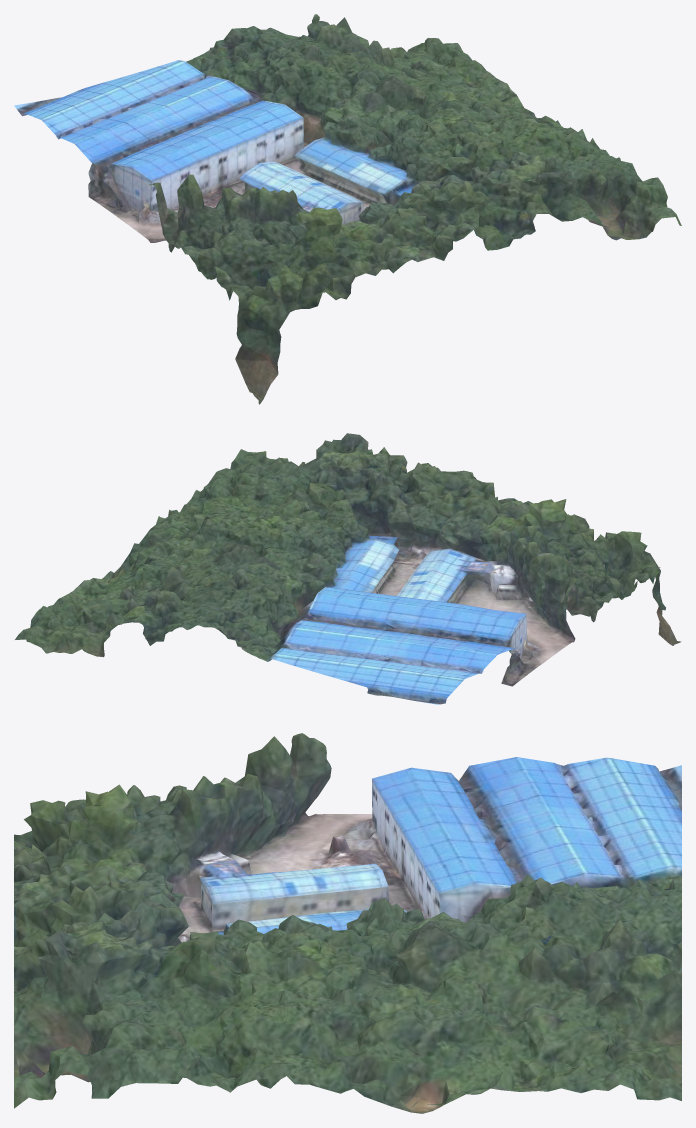
The model's file is Tile__005__002_L19_00010t3.glb.
3 views of the same model, one above another, from view 1: azimuth 30°, elevation 25°; view 2: azimuth 150°, elevation 25°; view 3: azimuth 270°, elevation 25° (orthographic). The views are drawn at different scales.
Parts seen in each view (by area): view 1: root; view 2: root; view 3: root.
Boxes of the visible parts, x1,y1,x2,y2 form: root: [14, 14, 681, 404]; root: [15, 433, 681, 704]; root: [14, 733, 681, 1113].
Bounding box in the file's own units: 50.81 × 18.14 × 50.81.
Materials: 4 (4 with a texture image).
